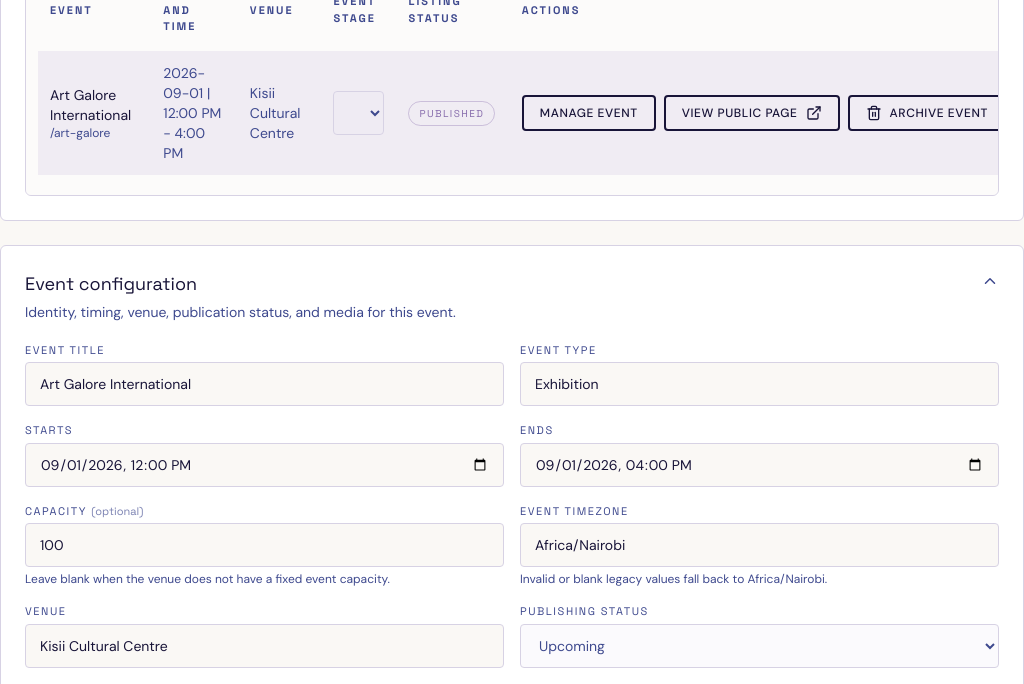
Test: AdminEventsPage ticket visibility › preserves event edits until explicitly discarded
(page scrolled)
Replace the text in the field with placeholder "Event title" with "Edited event title": x=264, y=384 [25,362,504,406]
(page scrolled)
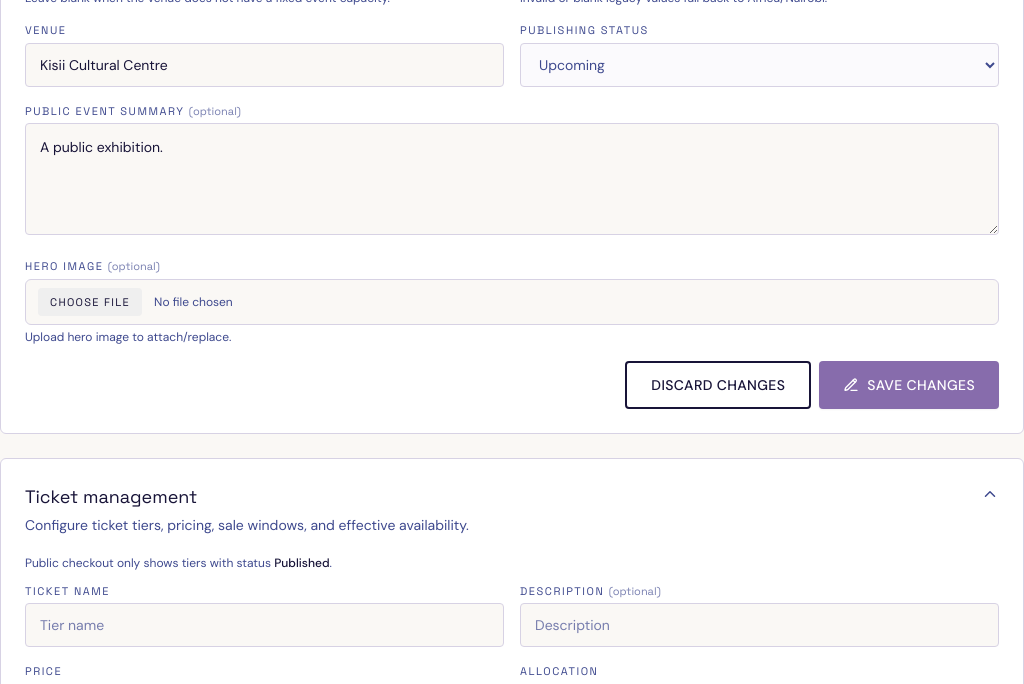
Click the button "Discard changes": x=718, y=384 [625,360,811,408]
(page scrolled)
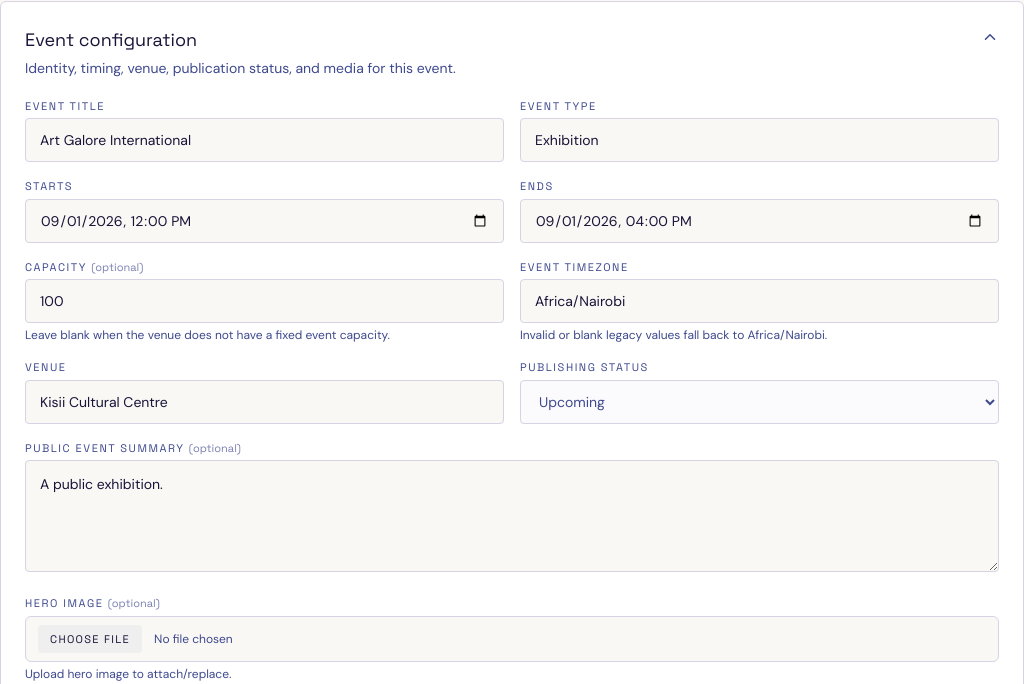
Now the field with placeholder "Event title" holds "Art Galore International", box [25,118,504,162]
